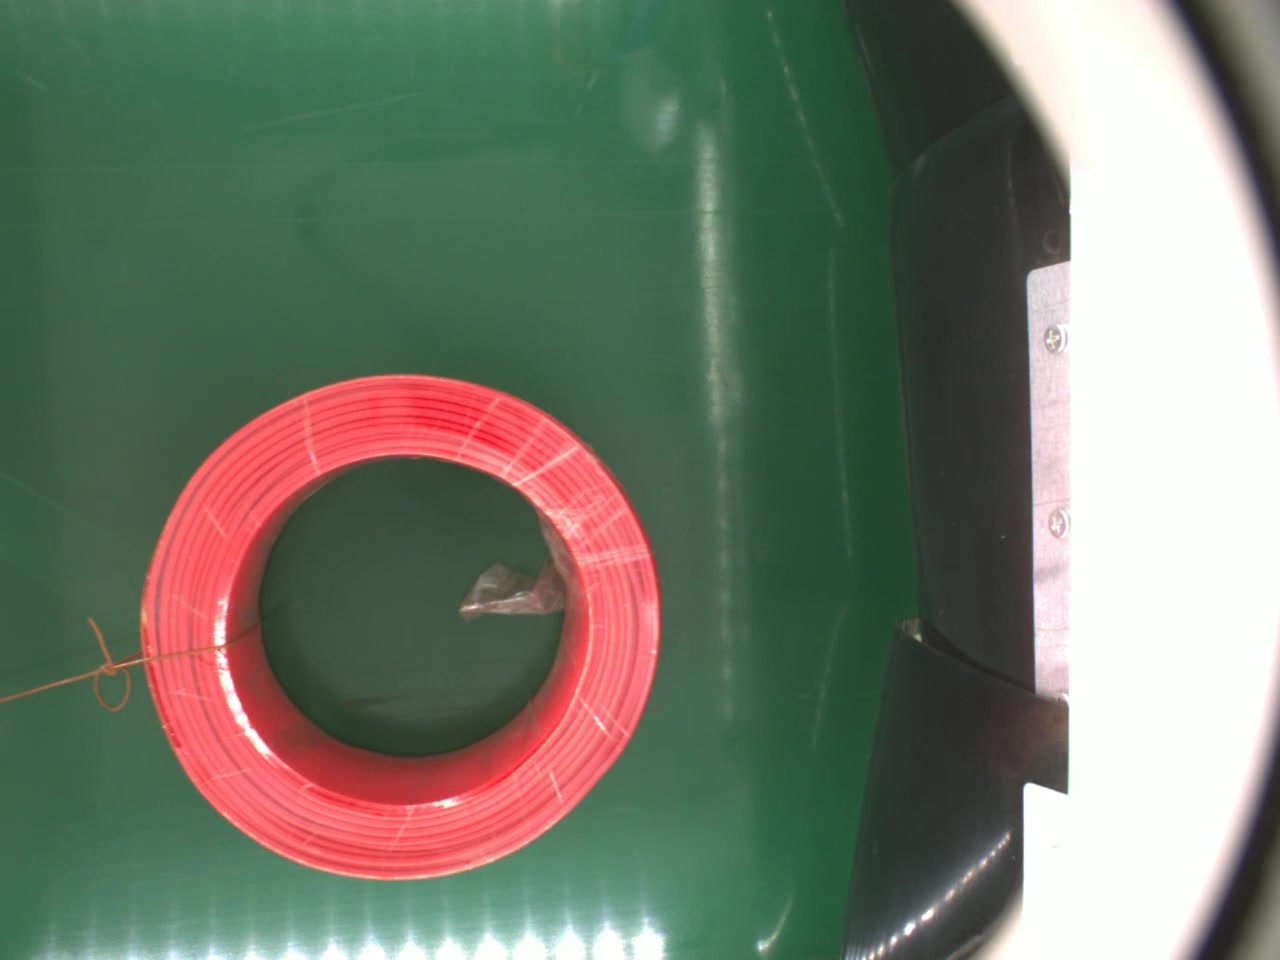red: (134, 366, 657, 881)
